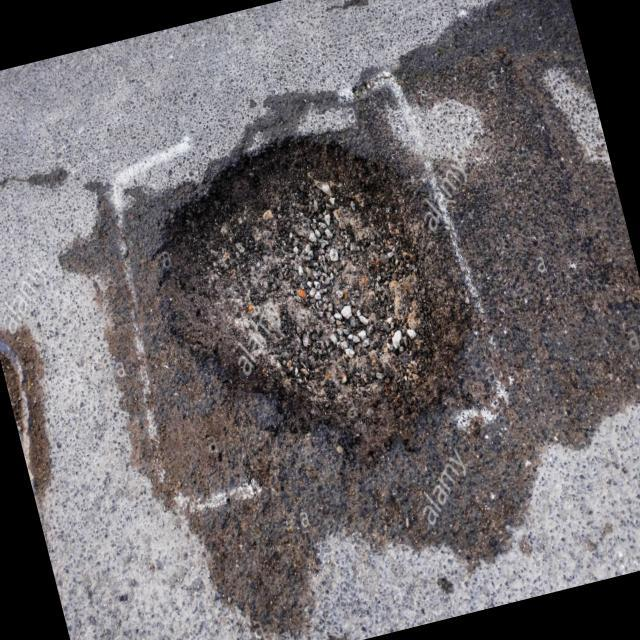Pothole: (92, 75, 514, 518)
